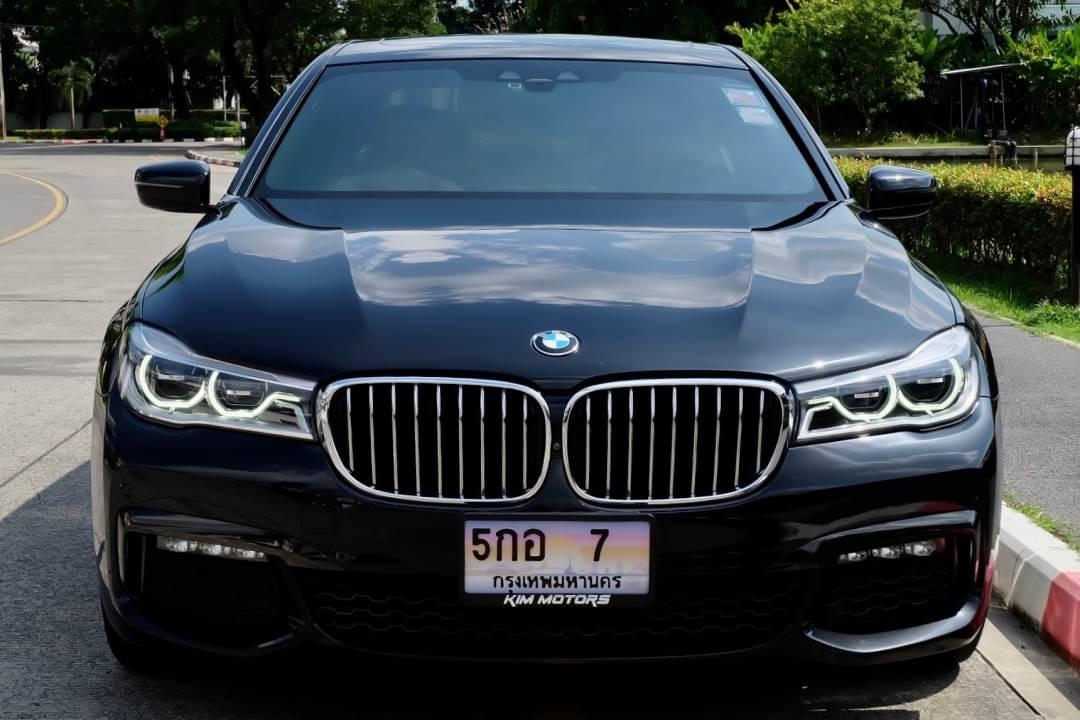license-plate: (459, 508, 657, 608)
